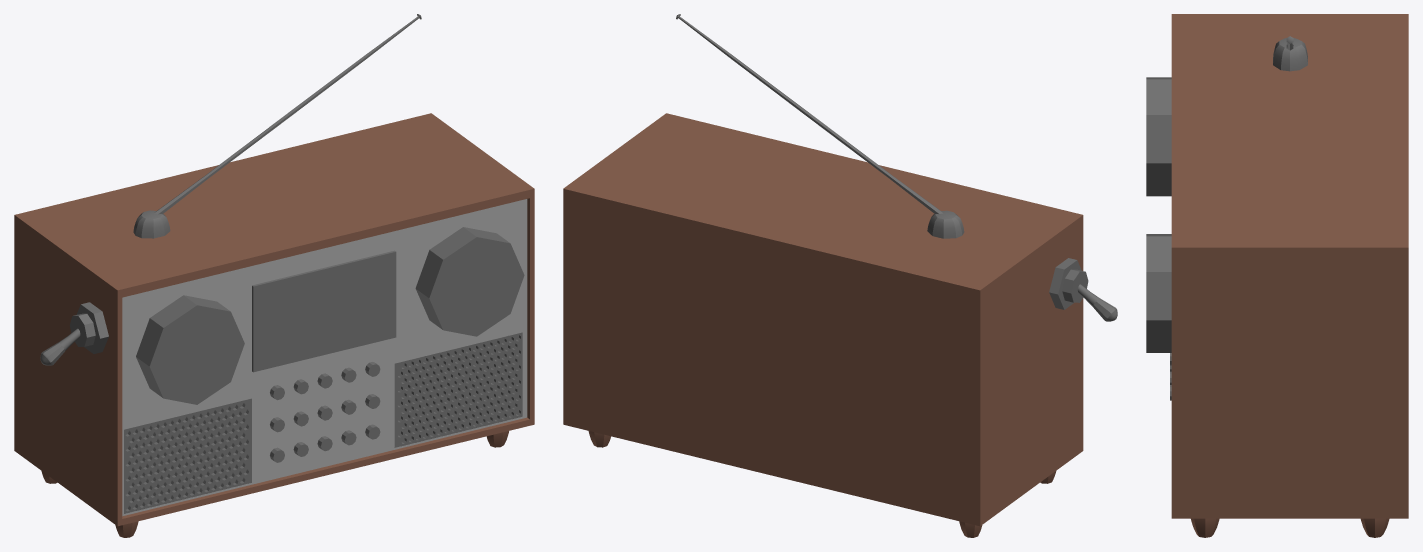
File: BiggerRadio.fbx
3 views of the same model, side by side, from view 1: azimuth 30°, elevation 25°; view 2: azimuth 150°, elevation 25°; view 3: azimuth 270°, elevation 25° (orthographic). The views are drawn at different scales.
Parts seen in each view (by area): view 1: gehaeuse, vorderseite, pPlane2, polySurface1, display, pCylinder55, pCylinder54, pCylinder56, pCylinder57, fuesse; view 2: gehaeuse, pCylinder55, pCylinder54, pCylinder56; view 3: gehaeuse, polySurface1, pCylinder54, fuesse.
Boxes of the visible parts, x1,y1,x2,y2 form: gehaeuse: [14, 113, 534, 526]; vorderseite: [122, 199, 527, 516]; pPlane2: [124, 332, 522, 513]; polySurface1: [136, 227, 524, 404]; display: [252, 250, 396, 372]; pCylinder55: [154, 14, 421, 214]; pCylinder54: [133, 210, 170, 238]; pCylinder56: [76, 302, 108, 353]; pCylinder57: [69, 313, 95, 346]; fuesse: [41, 431, 508, 537]; gehaeuse: [563, 113, 1083, 526]; pCylinder55: [676, 14, 942, 214]; pCylinder54: [927, 210, 964, 238]; pCylinder56: [1049, 258, 1081, 309]; gehaeuse: [1171, 14, 1408, 518]; polySurface1: [1146, 77, 1171, 352]; pCylinder54: [1273, 38, 1307, 71]; fuesse: [1191, 518, 1389, 537].
Bounding box in the file's own units: 39.6 × 33.17 × 16.6.
